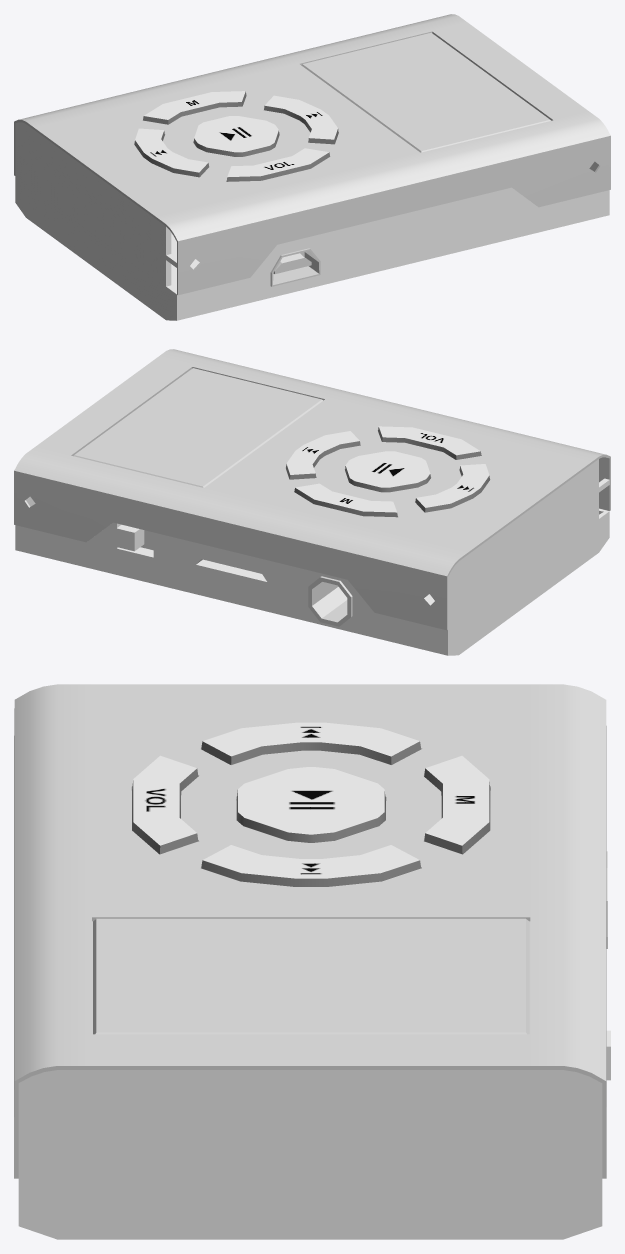
The model's file is player.fbx.
3 renders of one model, top to bottom at view 1: azimuth 30°, elevation 25°; view 2: azimuth 150°, elevation 25°; view 3: azimuth 270°, elevation 25°, orthographic. The views are drawn at different scales.
Visible parts, largest first — view 1: Object001, Object002, Object003, Object005; view 2: Object001, Object002, Object003, Object004; view 3: Object001, Object002, Object003.
Boxes of the visible parts, x1,y1,x2,y2 form: Object001: [14, 14, 610, 295]; Object002: [15, 91, 609, 320]; Object003: [301, 32, 550, 152]; Object005: [270, 248, 320, 286]; Object001: [14, 349, 610, 630]; Object002: [15, 426, 609, 655]; Object003: [73, 368, 323, 487]; Object004: [308, 576, 352, 626]; Object001: [14, 684, 606, 1178]; Object002: [18, 722, 610, 1239]; Object003: [93, 918, 529, 1034].
Bounding box in the file's own units: 61.63 × 40.76 × 13.66.
Materials: 2 (1 with a texture image).
